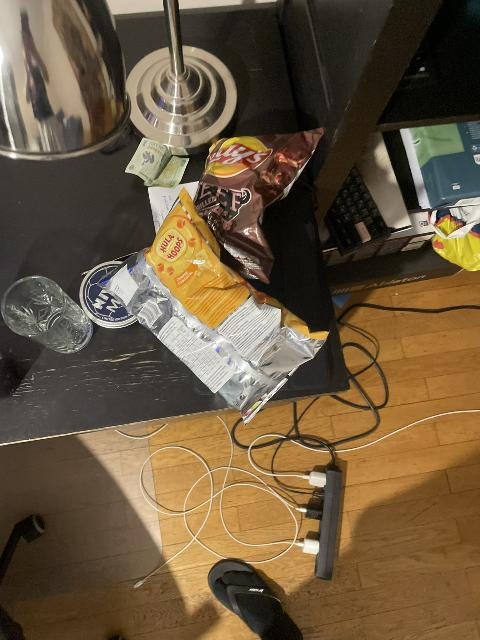Chio Hula Hoops Cheese 70g: (105, 195, 327, 428)
Lays Beef Grilled Ribs 125g: (195, 133, 321, 282)
